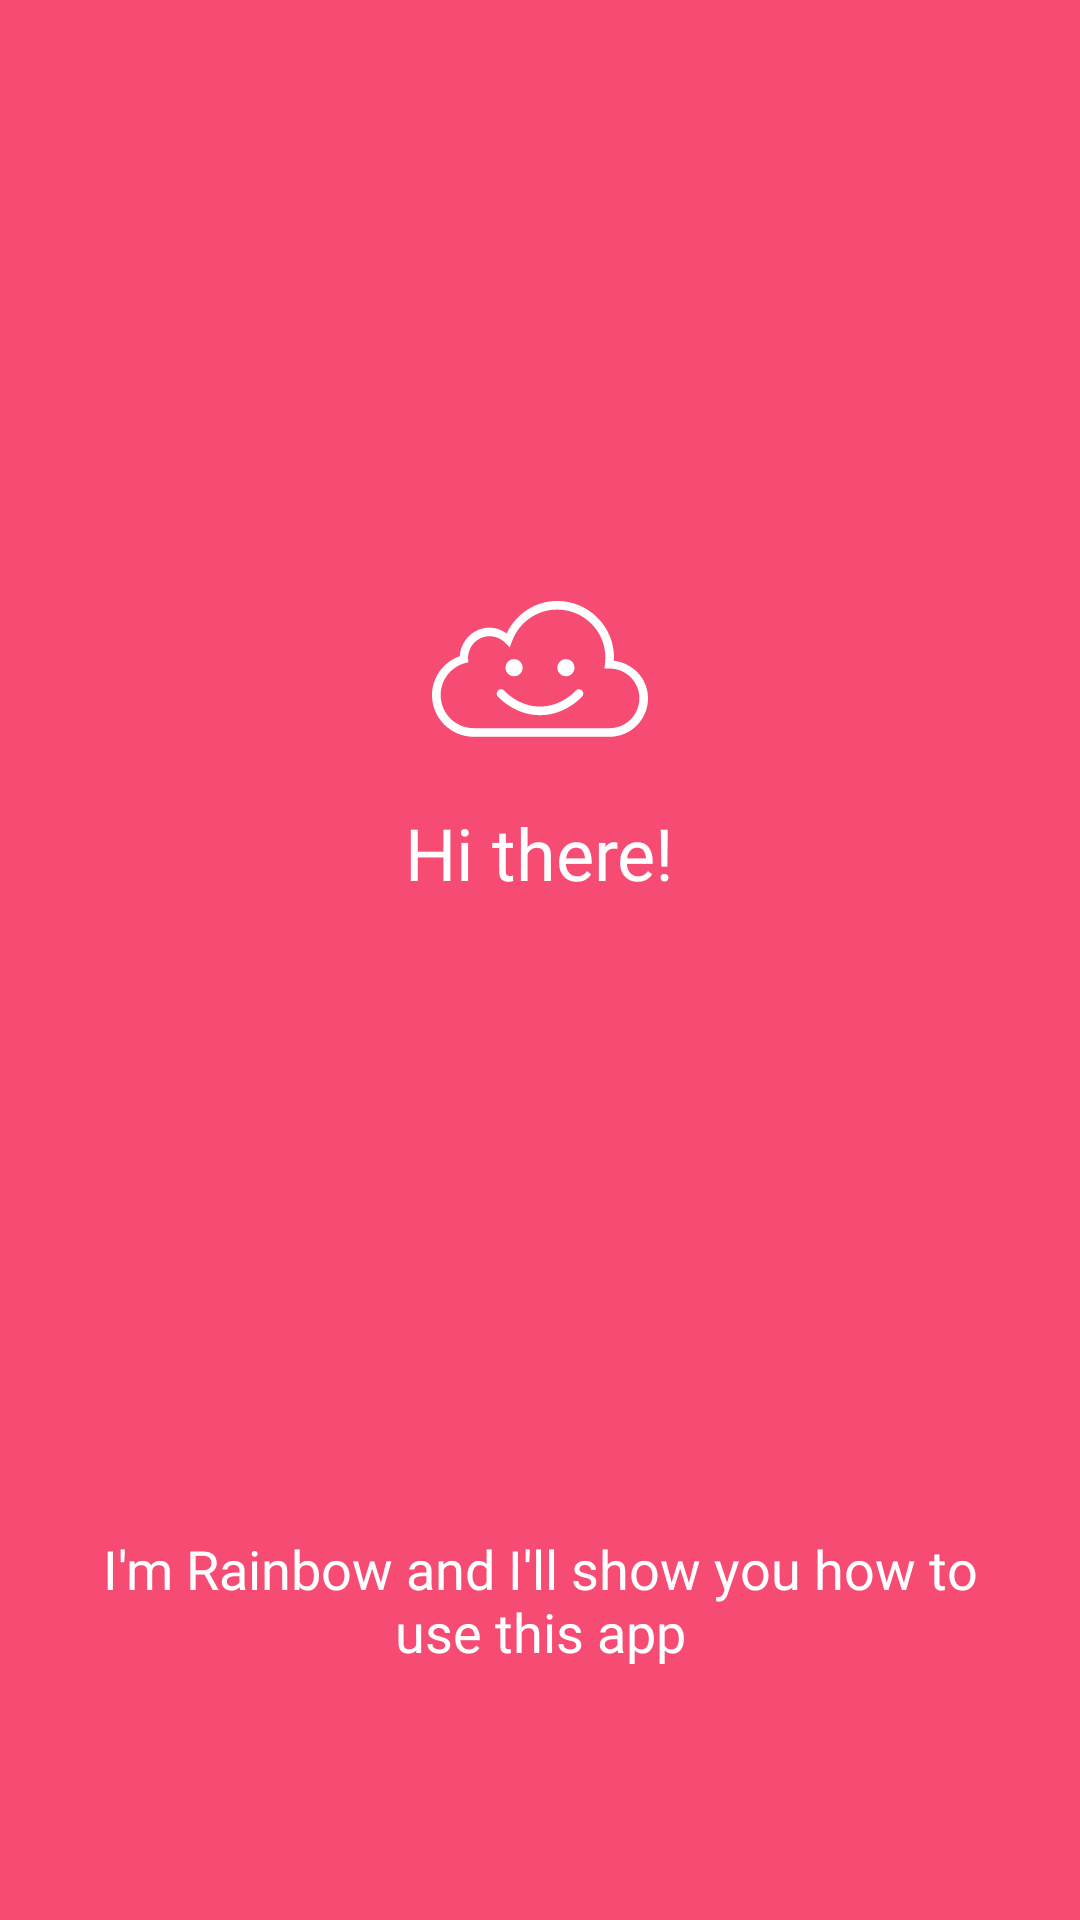

Icon bounding boxes for this 1080px×1920px phone screenshot, format rect(x1, y1, x2, y2):
happy cloud: rect(432, 601, 648, 737)
